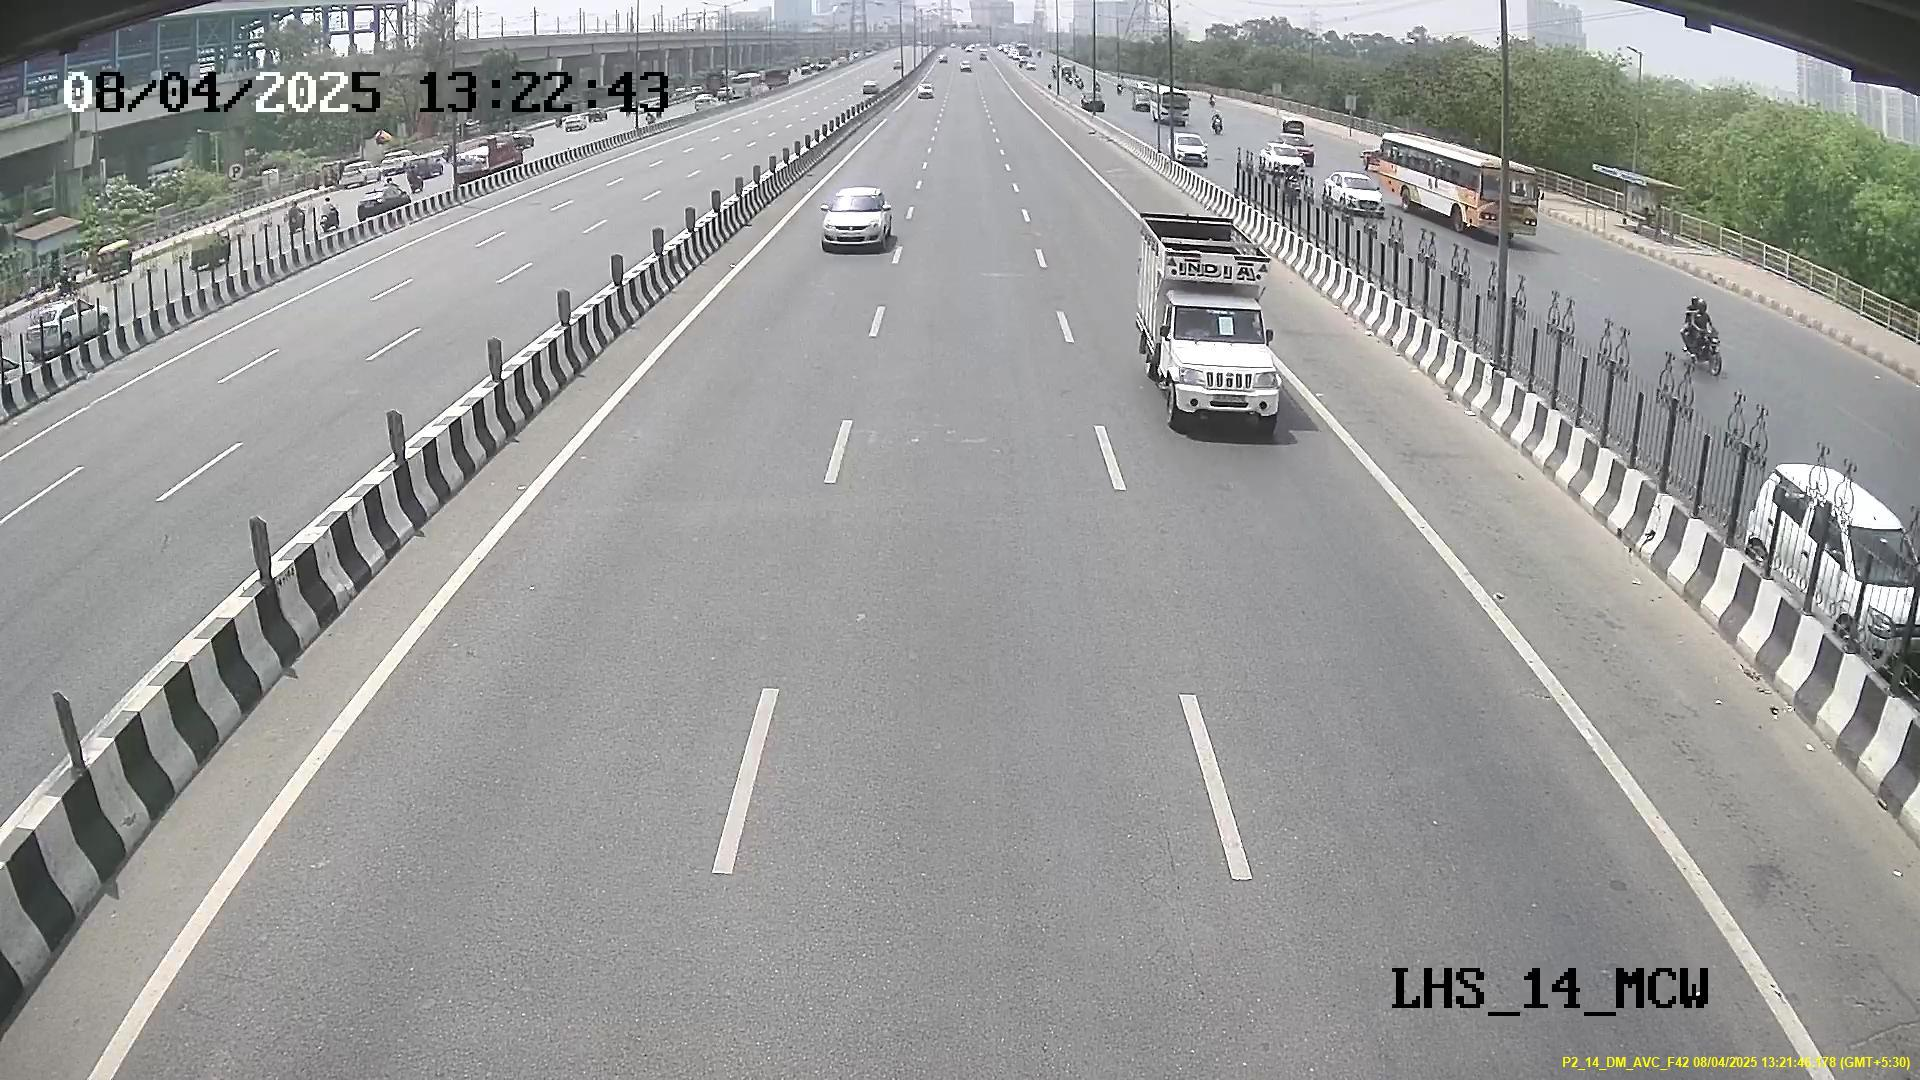car: (1154, 289, 1284, 433), (818, 185, 893, 256)
